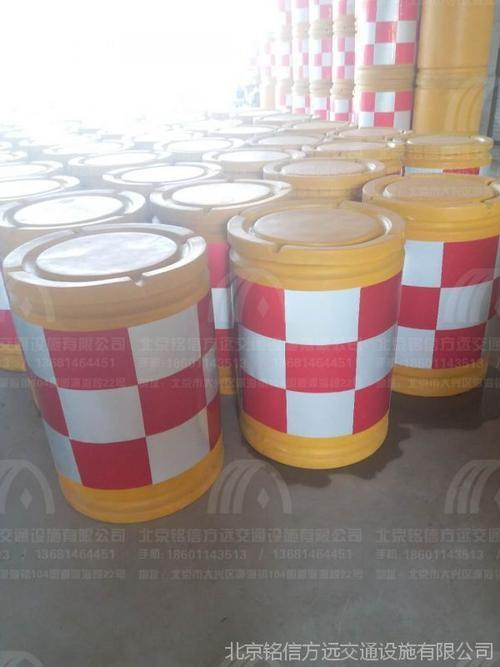cone_barrel: (5, 215, 219, 518), (230, 196, 405, 471), (370, 171, 494, 396), (357, 0, 419, 77), (351, 70, 411, 140), (332, 11, 355, 93), (309, 12, 331, 93)
